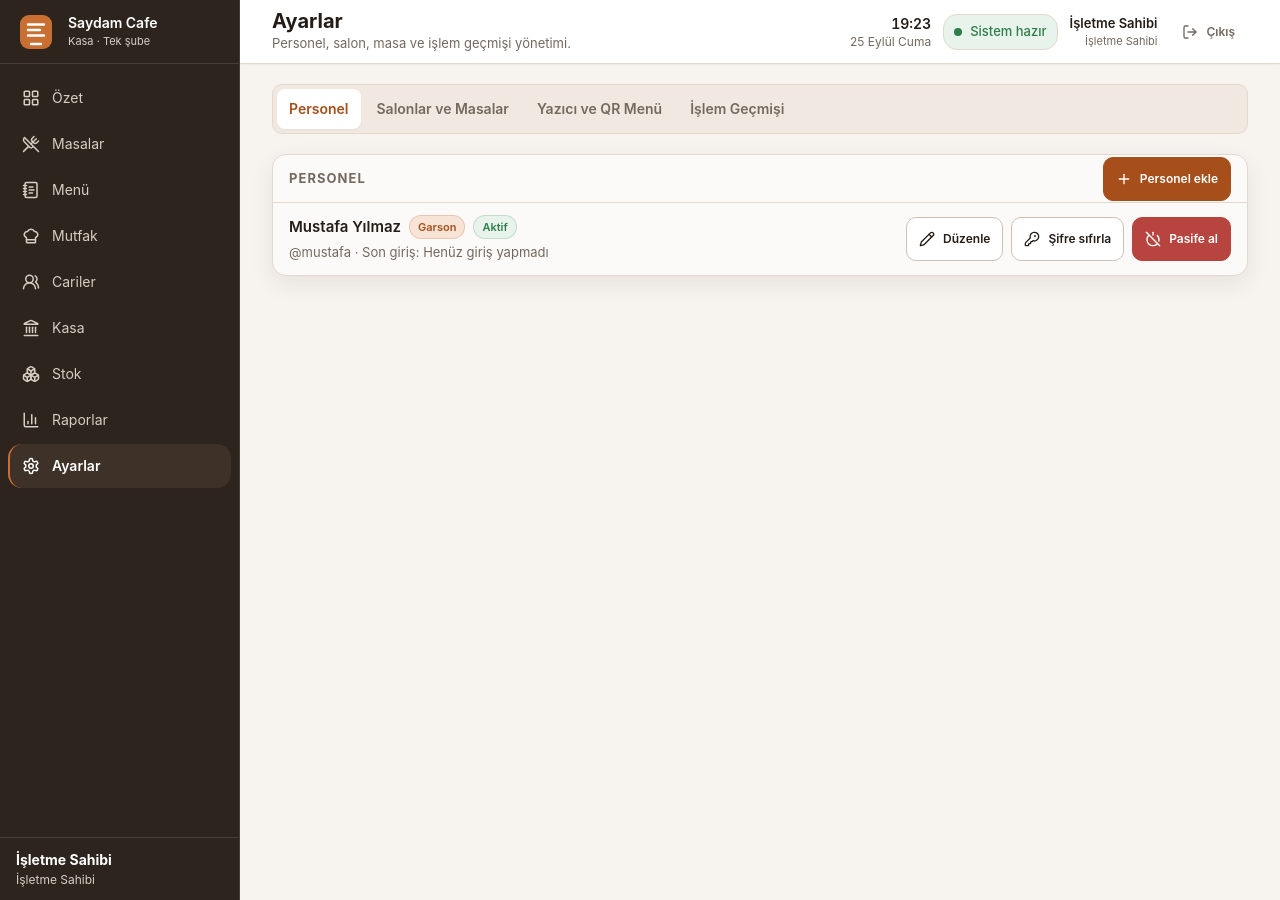
Test: Yönetim ve floor plan › personel listesini ve ekleme formunu gösterir
Expected: the text "Mustafa Yılmaz" is shown, [289,216,401,238]
Expected: the text "@mustafa · Son giriş: Henüz giriş yapmadı" is shown, [289,244,549,260]
Click the button "Personel ekle": coordinates (1167, 178) [1103,156,1231,200]
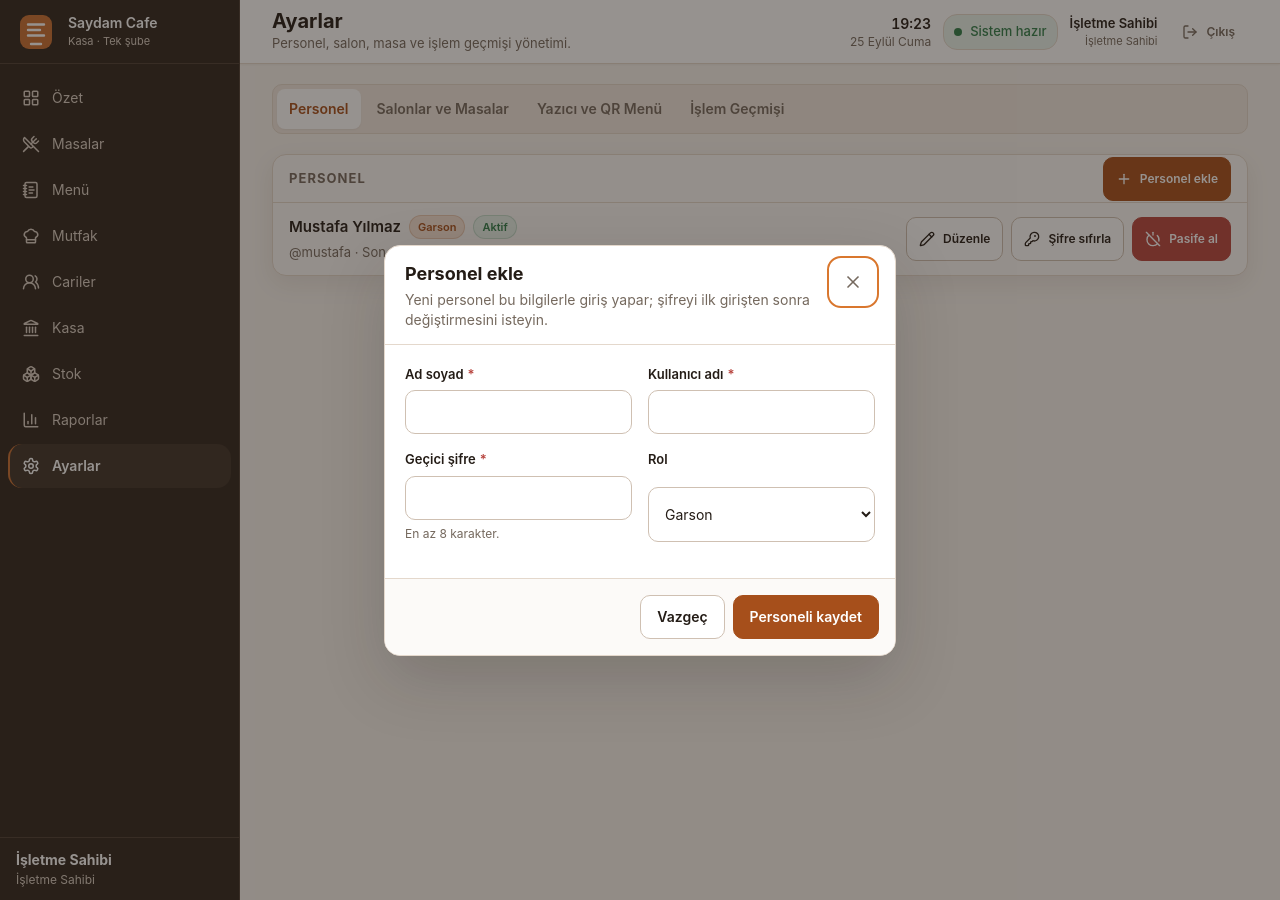
Expected: the field labelled "Ad soyad" is shown, [405,390,632,434]
Expected: the field labelled "Kullanıcı adı" is shown, [648,390,875,434]
Click the button "Vazgeç": coordinates (682, 616) [640,594,725,638]
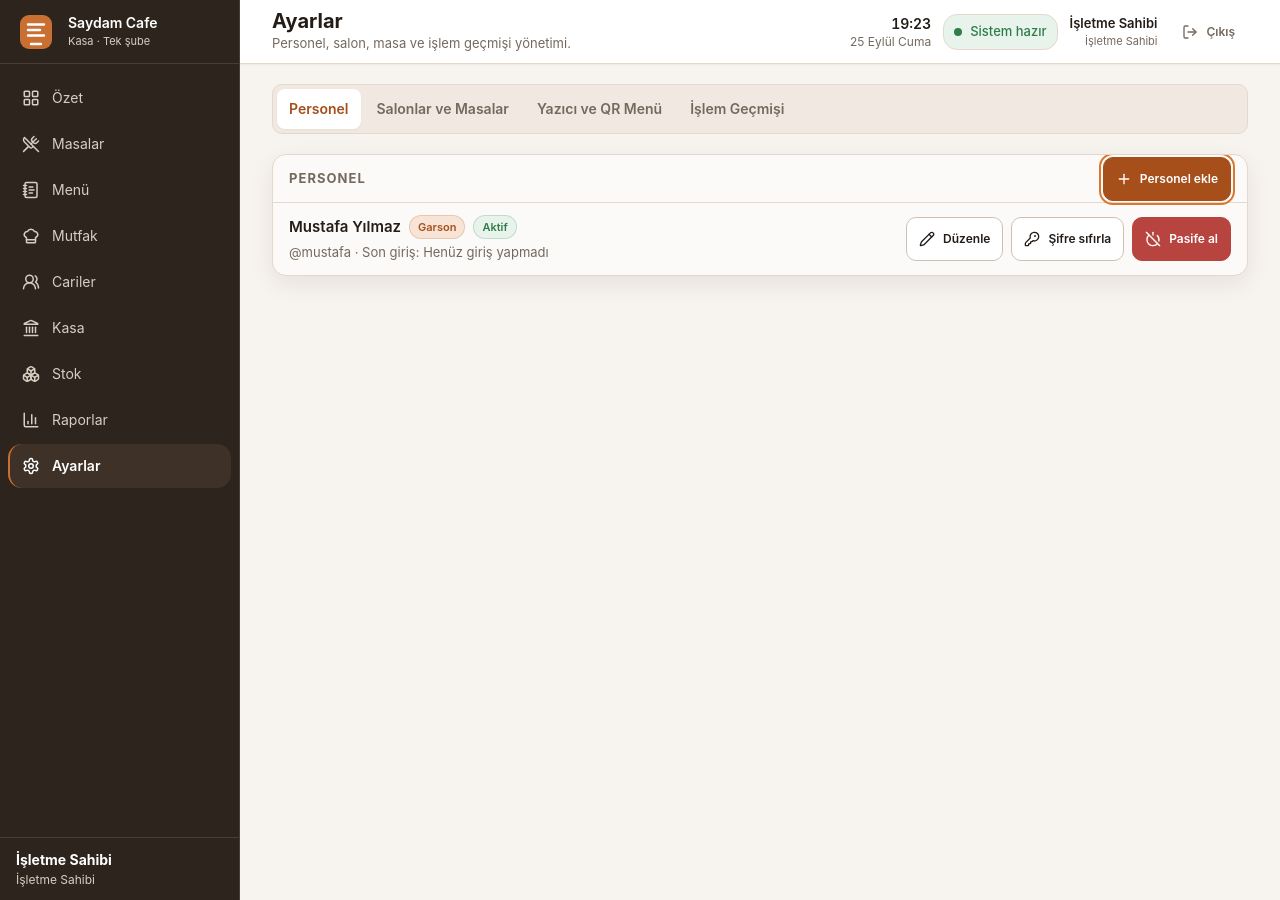
Click the button "Şifre sıfırla": coordinates (1068, 239) [1011,217,1124,261]
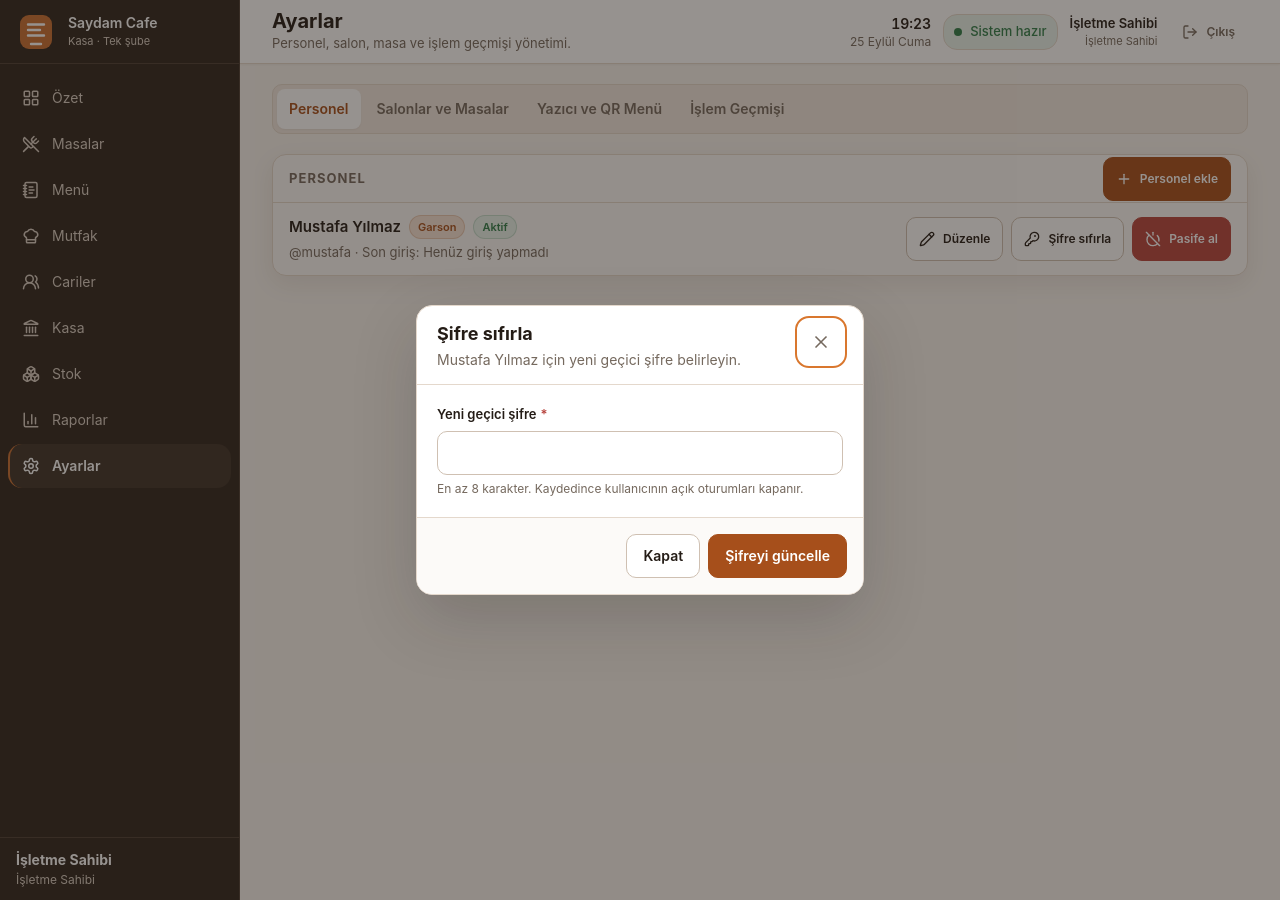
In the password field labelled "Yeni geçici şifre": coordinates (640, 453) [437,431,843,475], type "YeniStaff12!"
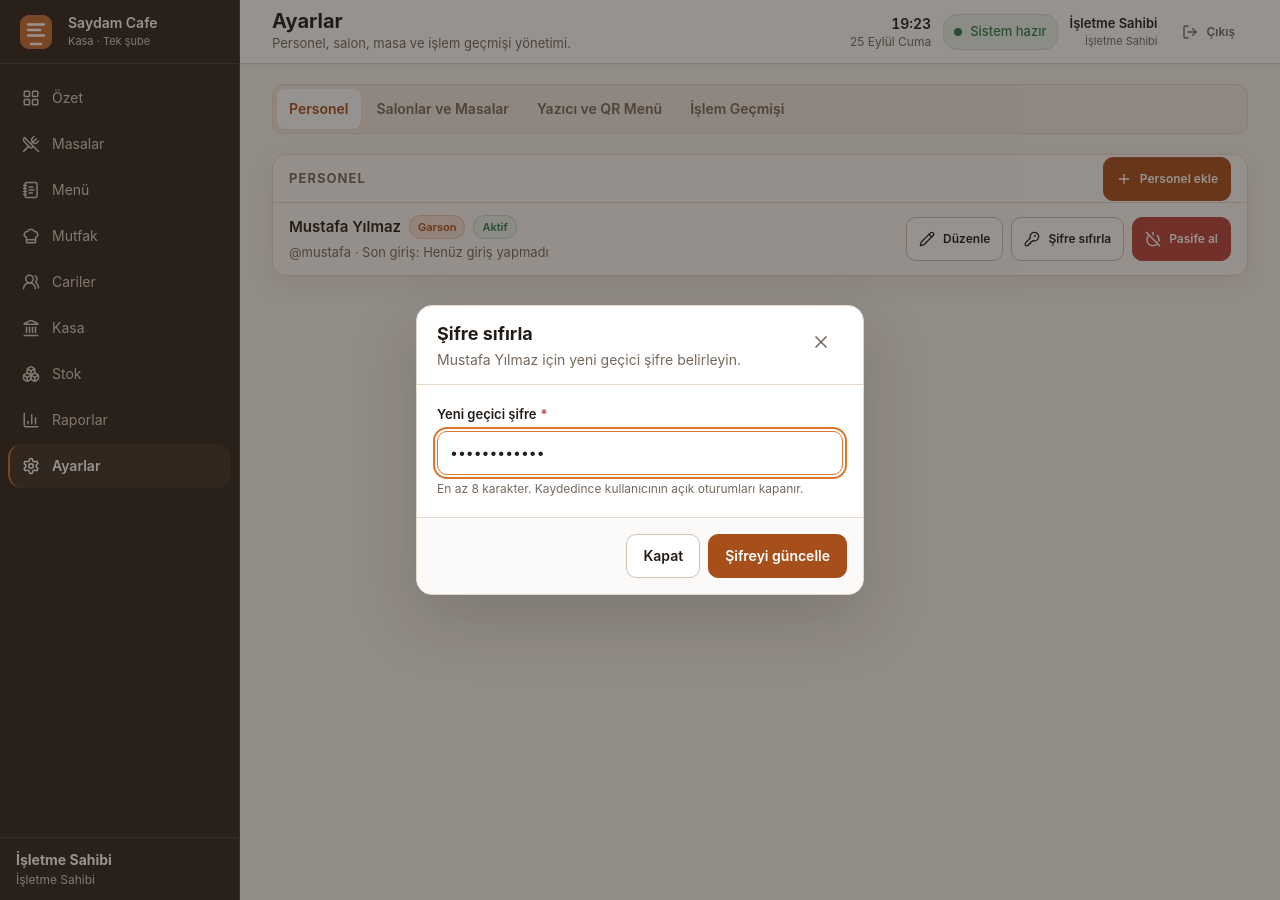
Click the button "Şifreyi güncelle": coordinates (778, 556) [708,534,847,578]
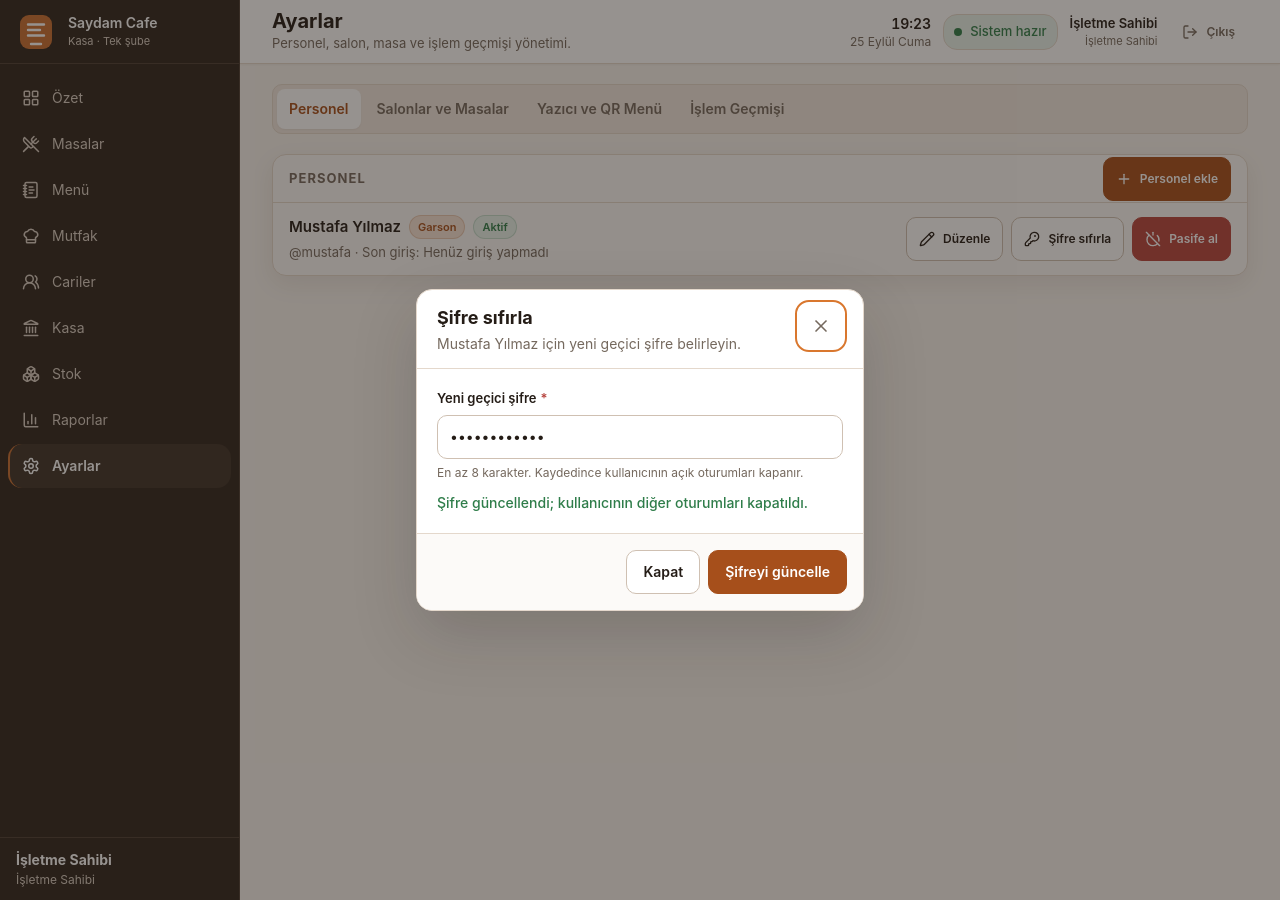
Expected: the message shows "Şifre güncellendi", [437,494,808,511]
